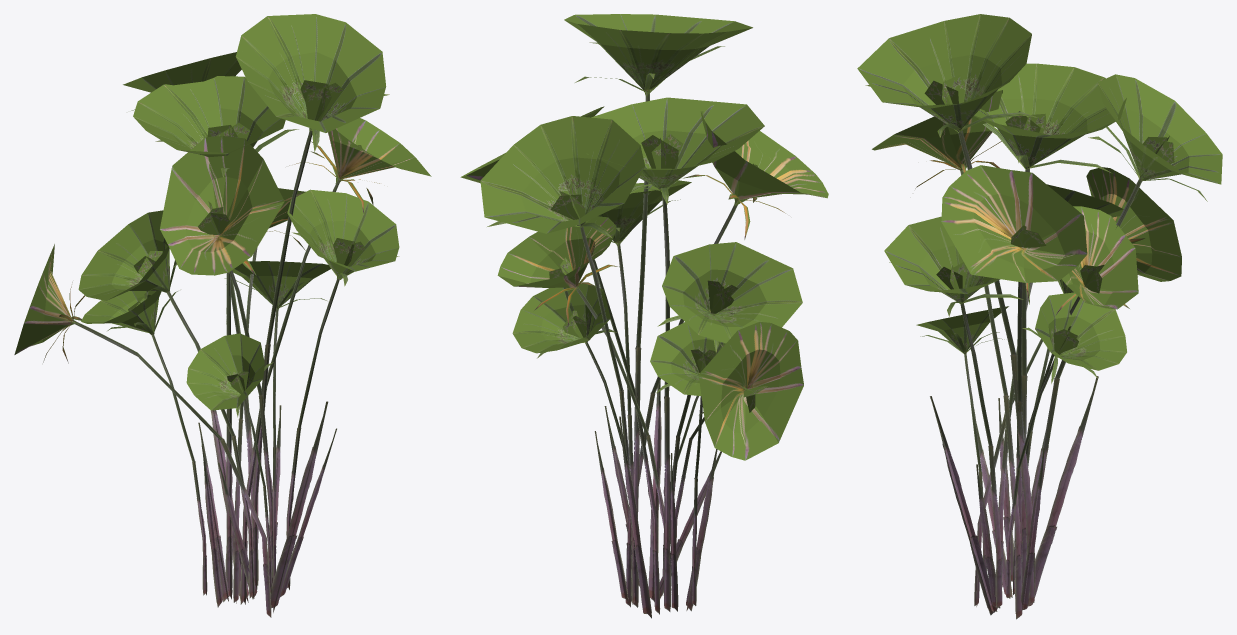
The model's file is Plant_papyrus00.fbx.
3 views of the same model, side by side, from view 1: azimuth 30°, elevation 25°; view 2: azimuth 150°, elevation 25°; view 3: azimuth 270°, elevation 25° (orthographic).
Parts seen in each view (by area): view 1: Plant_papyrus00; view 2: Plant_papyrus00; view 3: Plant_papyrus00.
Part boxes in pixels (x1,y1,x2,y2): Plant_papyrus00: [14, 14, 431, 617]; Plant_papyrus00: [460, 14, 828, 618]; Plant_papyrus00: [857, 14, 1222, 619].
Bounding box in the file's own units: 175 × 271 × 152.
